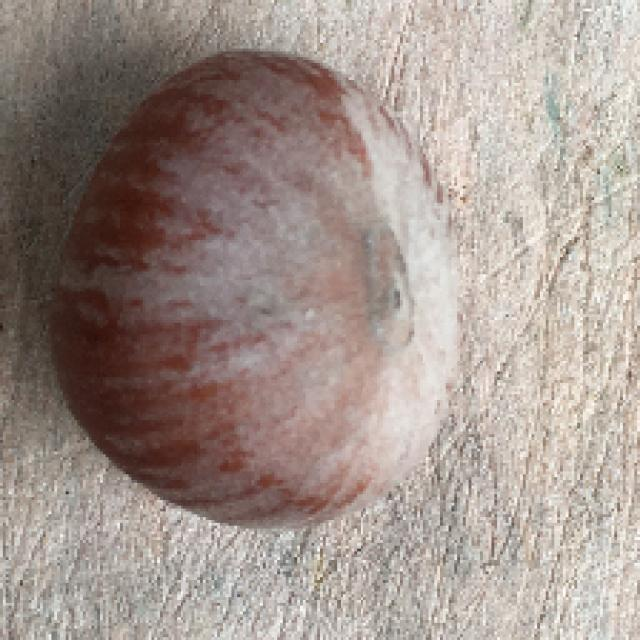qualityHazelnut: (44, 46, 475, 534)
